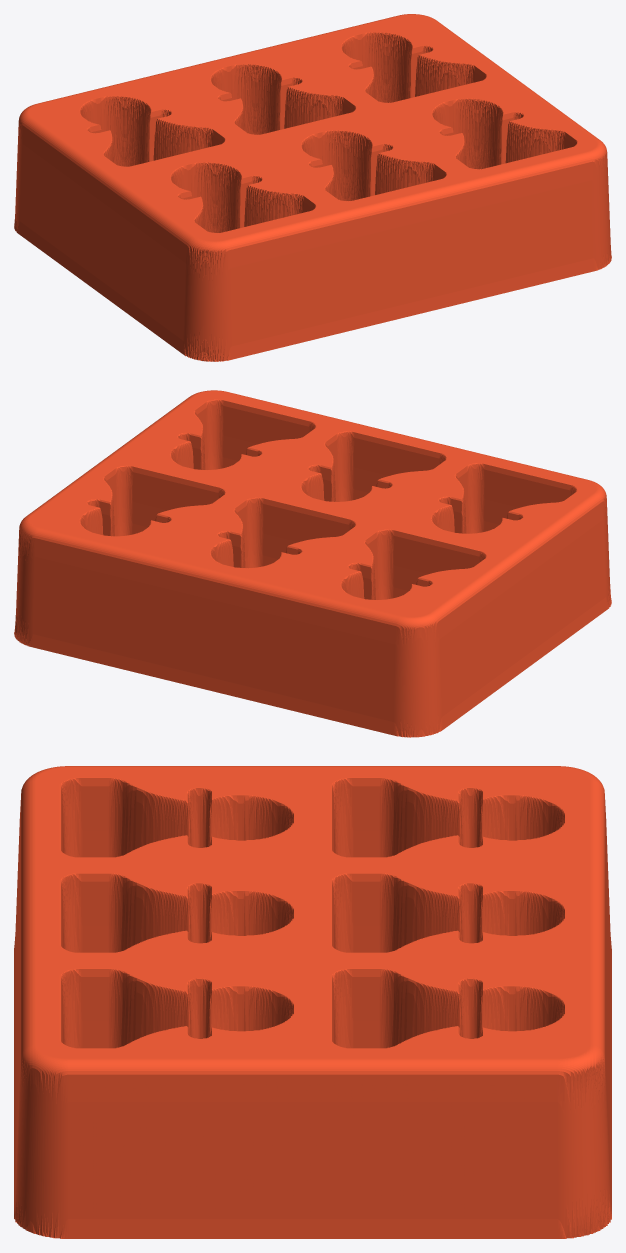
The model's file is mold.glb.
3 views of the same model, one above another, from view 1: azimuth 30°, elevation 25°; view 2: azimuth 150°, elevation 25°; view 3: azimuth 270°, elevation 25° (orthographic). The views are drawn at different scales.
Visible parts, largest first — view 1: geometry_0; view 2: geometry_0; view 3: geometry_0.
Boxes of the visible parts, x1,y1,x2,y2 form: geometry_0: (14, 14, 611, 361); geometry_0: (14, 390, 611, 737); geometry_0: (14, 766, 611, 1238).
Size of the model in its own units: 0.122 by 0.0314 by 0.0996.
